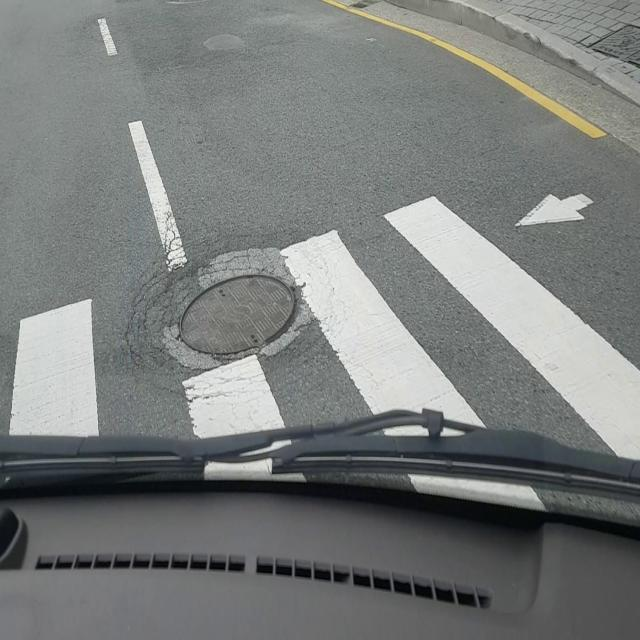Pothole: (172, 269, 302, 365)
